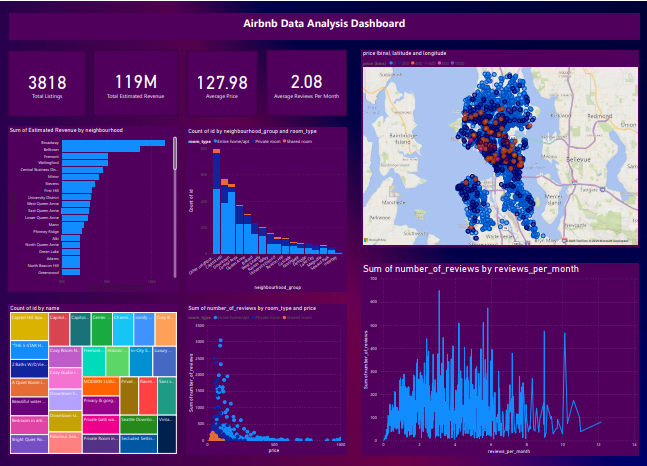

This screenshot's page, from the dashboard's own definition file:
{"tool":"powerbi","page":{"name":"Page 1","canvas":[1950,1400],"ordinal":0},"visuals":[{"type":"card","title":"Total Listings","fields":{"Values":["public listings.Total Listings"]},"box":[32,148,232,198],"z":0},{"type":"card","fields":{"Values":["public listings.Total Estimated Revenue"]},"box":[286,146,254,198],"z":1000},{"type":"card","fields":{"Values":["public listings.Average Price"]},"box":[566,148,212,198],"z":2000},{"type":"card","fields":{"Values":["public reviews_summary.Average Reviews Per Month"]},"box":[806,146,240,198],"z":3000},{"type":"clusteredBarChart","fields":{"Category":["public neighbourhoods.neighbourhood"],"Y":["Sum(public listings.Estimated Revenue)"]},"box":[30,376.7,510,496.7],"z":4000},{"type":"columnChart","fields":{"Category":["public neighbourhoods.neighbourhood_group"],"Series":["public listings.room_type"],"Y":["CountNonNull(public listings.id)"]},"box":[566.7,380,480,493.3],"z":5000},{"type":"treemap","fields":{"Details":["public listings.name"],"Values":["CountNonNull(public listings.id)"]},"box":[32,910,508,452],"z":6000},{"type":"map","fields":{"Y":["public listings.latitude"],"X":["public listings.longitude"],"Series":["public listings.price (bins)"]},"box":[1090,146.7,833.3,590],"z":7000},{"type":"scatterChart","fields":{"X":["public listings.price"],"Y":["Sum(public reviews_summary.number_of_reviews)"],"Series":["public listings.room_type"]},"box":[566,910,480,452],"z":8000},{"type":"lineChart","fields":{"Category":["public reviews_summary.reviews_per_month"],"Y":["Sum(public reviews_summary.number_of_reviews)"]},"box":[1090,786.7,833.3,576.7],"z":9000},{"type":"textbox","box":[33.3,36.7,1890,80],"z":10000}]}

Visuals, with their boxes in screenshot pixels (x1, y1, x2, y2), scaled from the page's 1950x1400 canvas onto the 647x466 screenshot:
"Total Listings" card: <region>11, 49, 88, 115</region>
card - public listings.Total Estimated Revenue: <region>95, 49, 179, 115</region>
card - public listings.Average Price: <region>188, 49, 258, 115</region>
card - public reviews_summary.Average Reviews Per Month: <region>267, 49, 347, 115</region>
clusteredBarChart - public neighbourhoods.neighbourhood x Sum(public listings.Estimated Revenue): <region>10, 125, 179, 291</region>
columnChart - public neighbourhoods.neighbourhood_group x public listings.room_type: <region>188, 126, 347, 291</region>
treemap - public listings.name x CountNonNull(public listings.id): <region>11, 303, 179, 453</region>
map - public listings.latitude x public listings.longitude: <region>362, 49, 638, 245</region>
scatterChart - public listings.price x Sum(public reviews_summary.number_of_reviews): <region>188, 303, 347, 453</region>
lineChart - public reviews_summary.reviews_per_month x Sum(public reviews_summary.number_of_reviews): <region>362, 262, 638, 454</region>
textbox: <region>11, 12, 638, 39</region>
